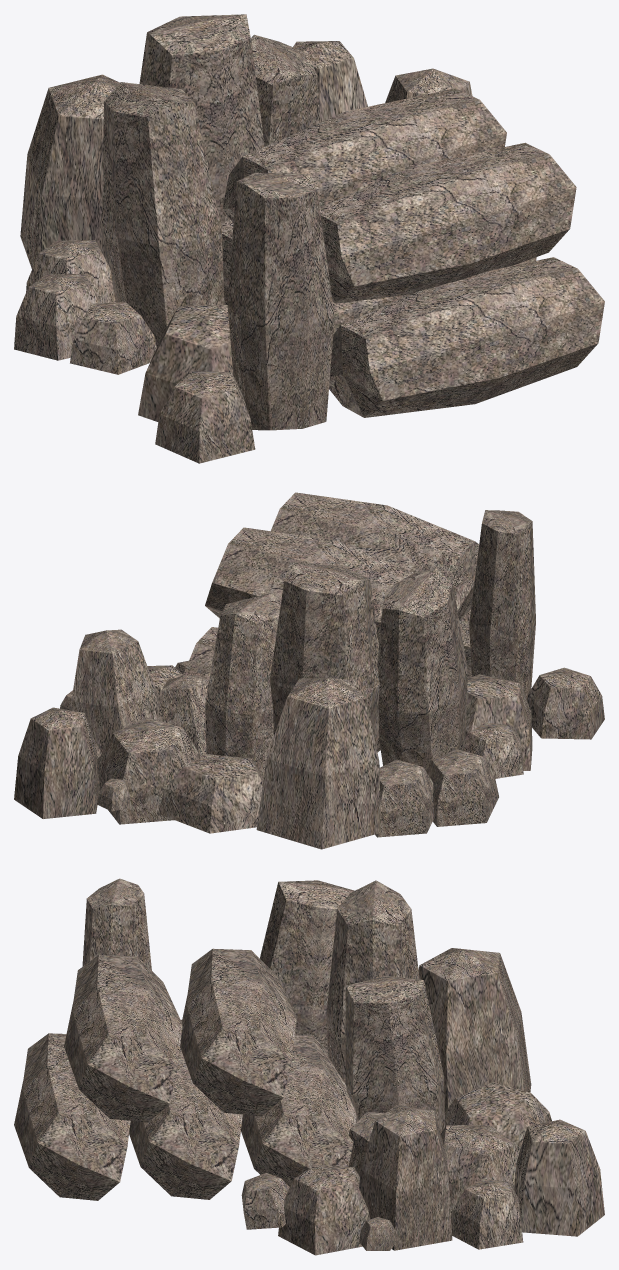
Rendered from poi_all_construction_stone_pile_l0.fbx.
The picture shows the model from 3 angles, top to bottom: view 1: azimuth 30°, elevation 25°; view 2: azimuth 150°, elevation 25°; view 3: azimuth 270°, elevation 25°; orthographic projection. The views are drawn at different scales.
Parts seen in each view (by area): view 1: mesh_node; view 2: mesh_node; view 3: mesh_node.
Part boxes in pixels (x1=…): mesh_node: x1=14, y1=14, x2=604, y2=463; mesh_node: x1=14, y1=492, x2=604, y2=849; mesh_node: x1=14, y1=878, x2=604, y2=1255.
Bounding box in the file's own units: 12.51 × 6.74 × 14.54.
1 material, 1 textured.
